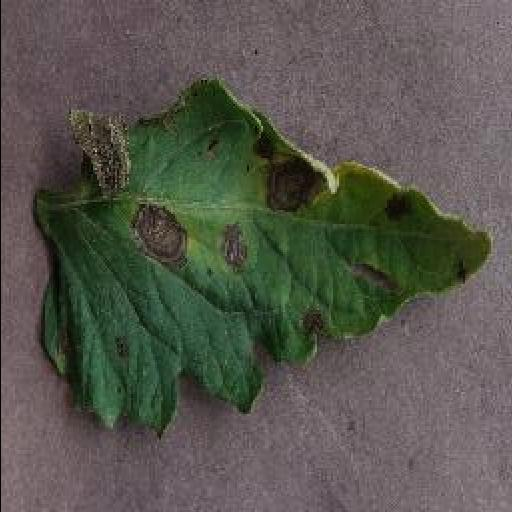disease_tomato: (33, 84, 491, 436)
